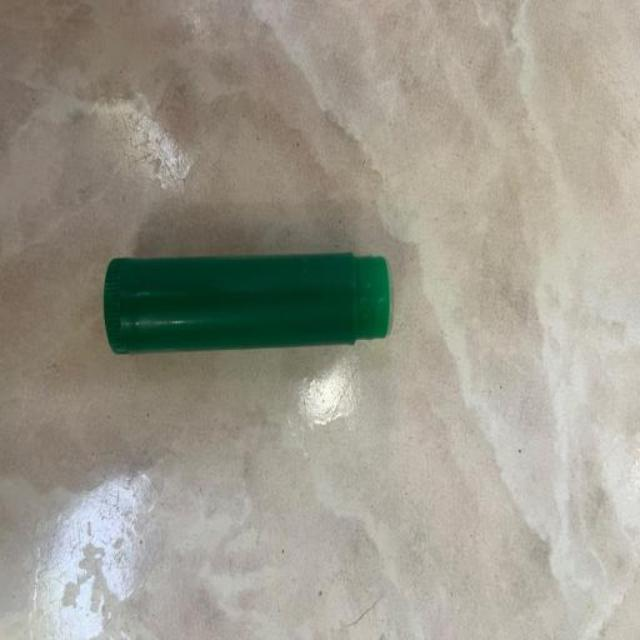HDPE: (68, 232, 491, 455)
